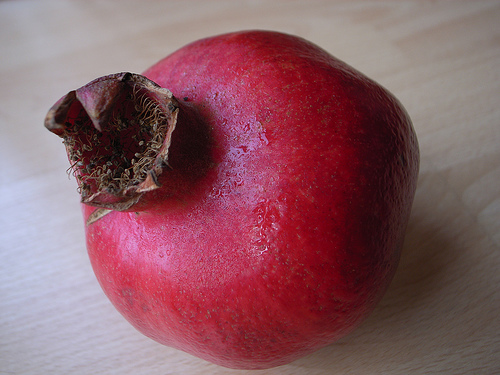pomogranate: (41, 26, 419, 367)
